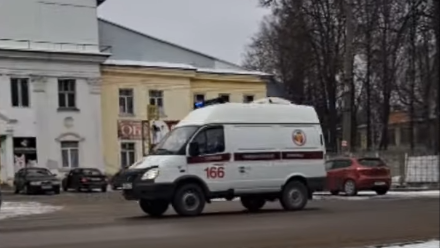ambulance: (123, 101, 325, 218)
non emergency car: (325, 156, 389, 196), (13, 165, 60, 194), (63, 166, 109, 193)
